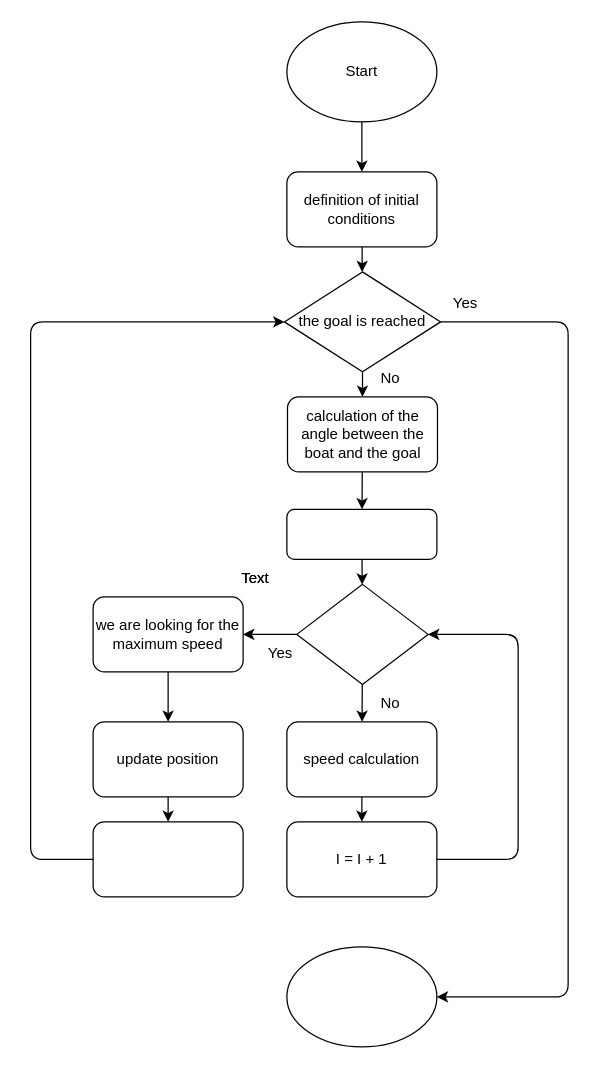
Image size: 600x1069. Some labels were removed from this diagram. Each missing label, with the box of its shape:
add position to path: (92, 821, 243, 897)
End: (286, 946, 437, 1047)
i = angle + 40: (296, 583, 428, 684)
i=angle-40°: (286, 508, 437, 559)
